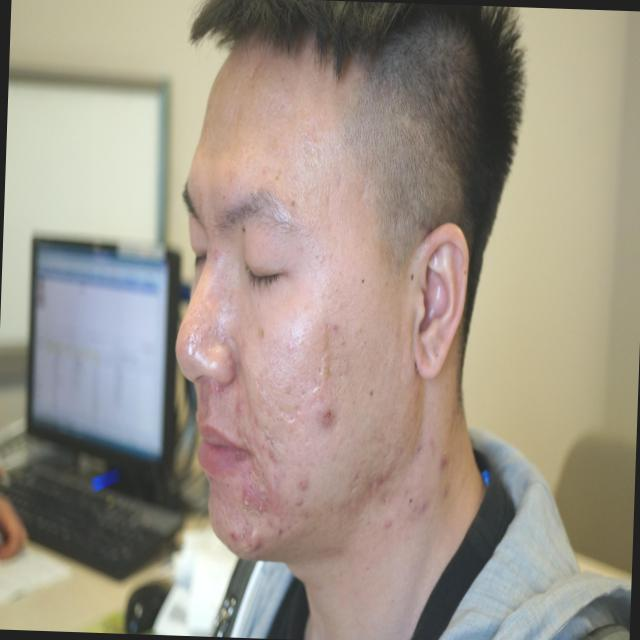blackhead: (366, 566, 368, 570), (344, 359, 346, 362), (364, 341, 366, 344), (324, 415, 326, 417), (335, 289, 337, 291), (338, 365, 339, 367), (385, 363, 386, 365)
nodule: (245, 529, 260, 551)
